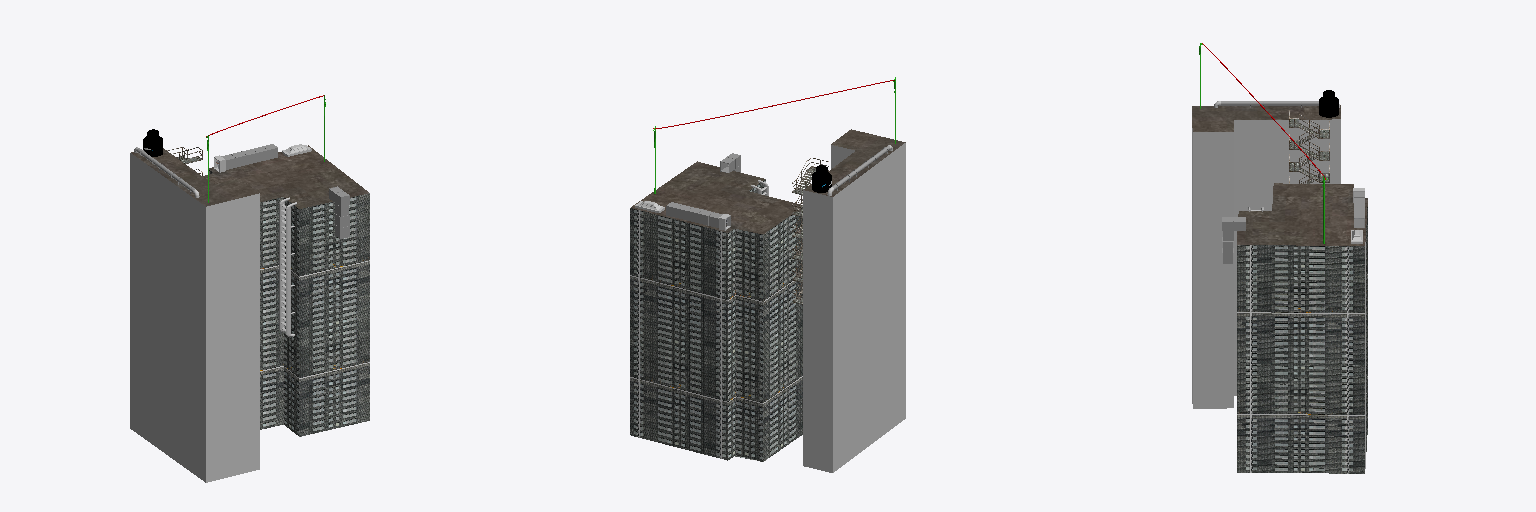
The picture shows the model from 3 angles: view 1: azimuth 30°, elevation 25°; view 2: azimuth 150°, elevation 25°; view 3: azimuth 270°, elevation 25°; orthographic projection.
Visible parts, largest first — view 1: Edificio04.001_parque_espana.osm_buildings.007, Edificio02.001_parque_espana.osm_buildings.034, azoteas.002_parque_espana.osm_buildings.033, azoteas.001_parque_espana.osm_buildings.032, Cylinder, Cube.004; view 2: Edificio02.001_parque_espana.osm_buildings.034, Edificio04.001_parque_espana.osm_buildings.007, azoteas.002_parque_espana.osm_buildings.033, azoteas.001_parque_espana.osm_buildings.032, escalera, Cube.004; view 3: Edificio02.001_parque_espana.osm_buildings.034, Edificio04.001_parque_espana.osm_buildings.007, azoteas.002_parque_espana.osm_buildings.033, azoteas.001_parque_espana.osm_buildings.032, escalera.
Boxes of the visible parts, box(x1,y1,x2,y2) form: Edificio04.001_parque_espana.osm_buildings.007: box(130, 153, 259, 482); Edificio02.001_parque_espana.osm_buildings.034: box(209, 170, 369, 436); azoteas.002_parque_espana.osm_buildings.033: box(203, 145, 368, 208); azoteas.001_parque_espana.osm_buildings.032: box(131, 148, 258, 206); Cylinder: box(279, 197, 296, 336); Cube.004: box(221, 144, 277, 169); Edificio02.001_parque_espana.osm_buildings.034: box(630, 179, 802, 461); Edificio04.001_parque_espana.osm_buildings.007: box(803, 143, 905, 472); azoteas.002_parque_espana.osm_buildings.033: box(631, 161, 800, 233); azoteas.001_parque_espana.osm_buildings.032: box(804, 129, 905, 196); escalera: box(792, 158, 828, 304); Cube.004: box(666, 202, 722, 227); Edificio02.001_parque_espana.osm_buildings.034: box(1237, 207, 1367, 473); Edificio04.001_parque_espana.osm_buildings.007: box(1192, 119, 1340, 408); azoteas.002_parque_espana.osm_buildings.033: box(1237, 183, 1367, 245); azoteas.001_parque_espana.osm_buildings.032: box(1192, 105, 1340, 131); escalera: box(1289, 110, 1329, 183).
Bounding box in the file's own units: 21.82 × 37.65 × 17.48.
Materials: 37 (7 with a texture image).